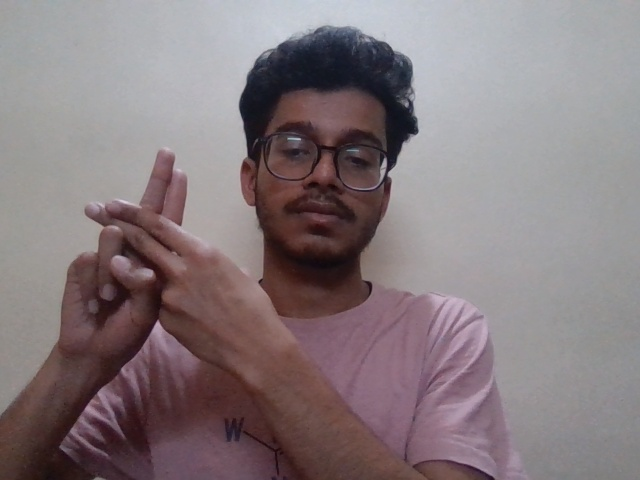disabled: (49, 133, 285, 382)
